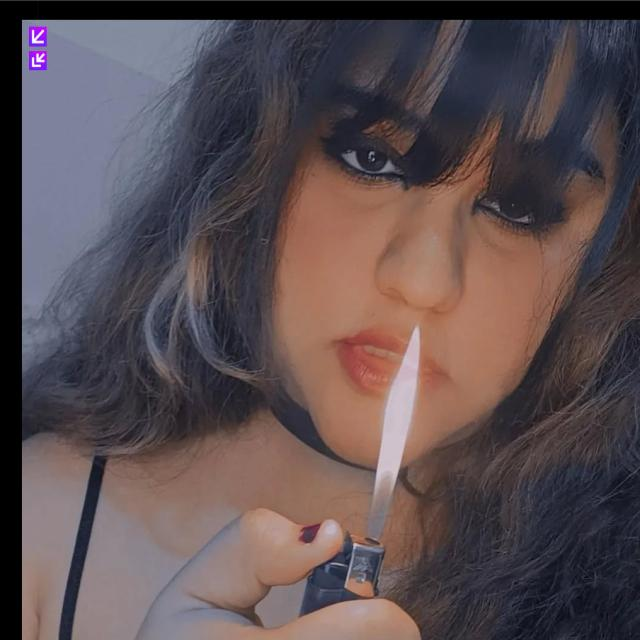fire: (371, 328, 420, 537)
